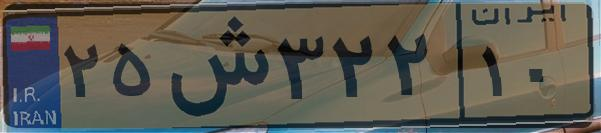0: (525, 38, 570, 115)
1: (475, 38, 525, 113)
2: (385, 28, 445, 110), (330, 28, 385, 110), (57, 26, 110, 100)
3: (270, 28, 330, 110)
5: (110, 28, 158, 98)
ش: (158, 12, 270, 120)
